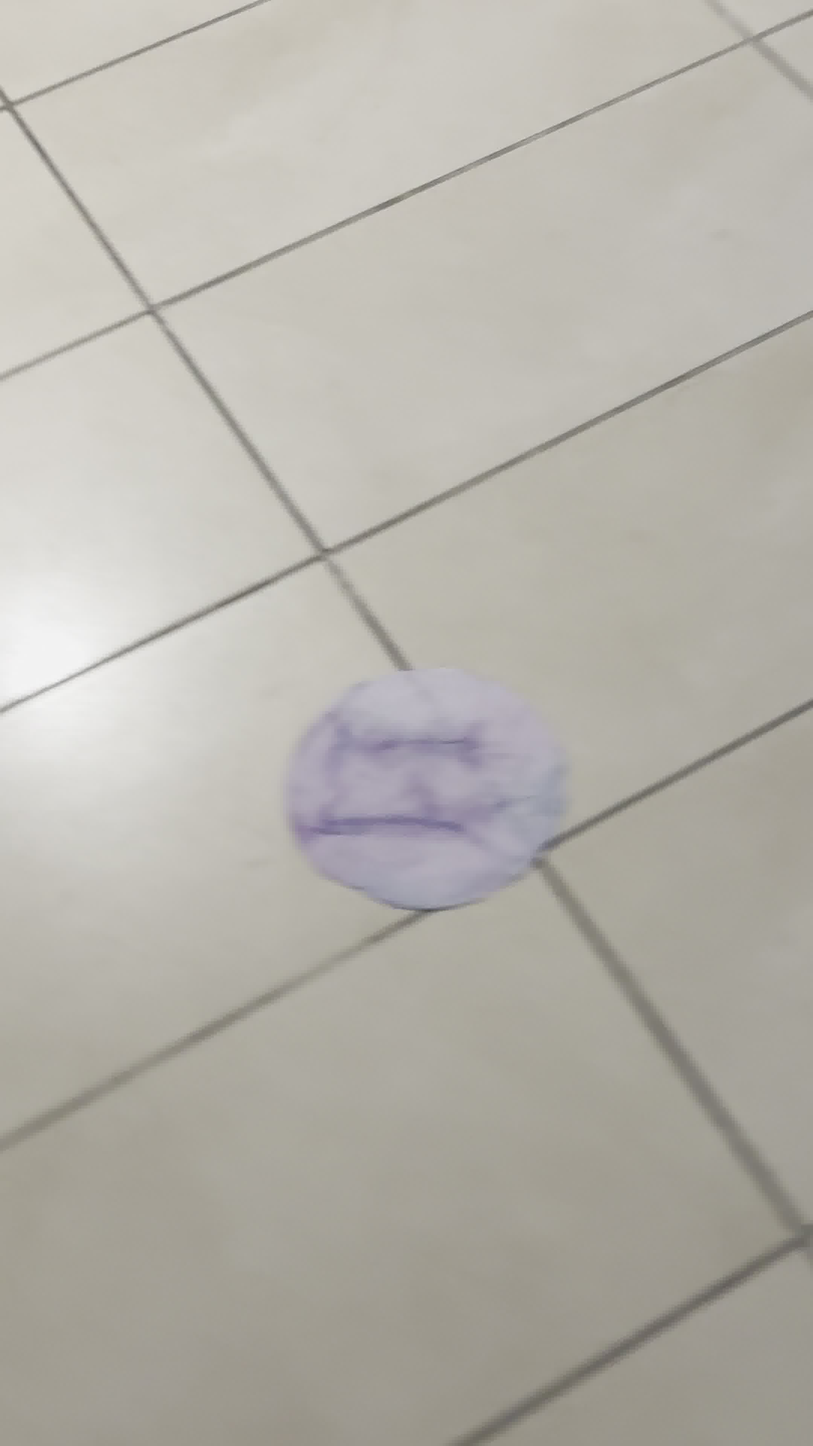Target: (287, 680, 567, 911)
